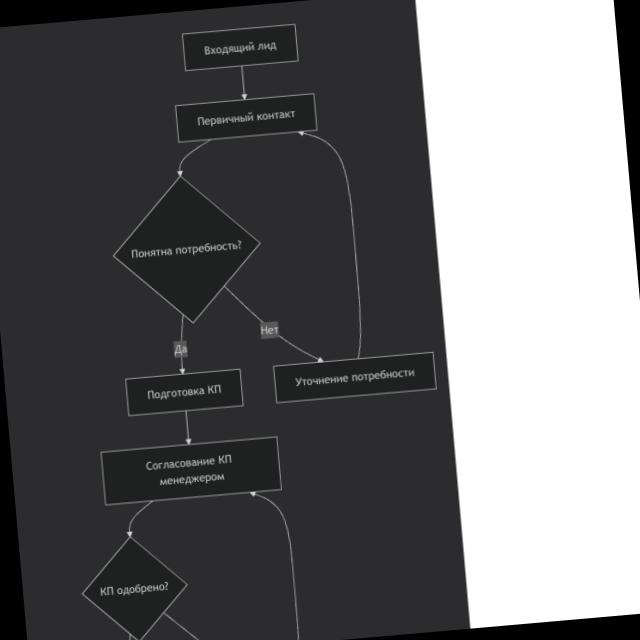arrow: (299, 131, 361, 358), (223, 278, 324, 370), (251, 492, 299, 639), (178, 139, 210, 176), (127, 502, 152, 537), (174, 314, 188, 373), (182, 410, 192, 444), (238, 67, 247, 100)
diamond: (106, 169, 268, 330), (77, 532, 193, 640)
rectangle: (100, 436, 282, 505), (272, 350, 438, 403), (175, 91, 318, 142), (124, 366, 244, 416), (182, 24, 298, 72)
text_region: (260, 322, 279, 338), (172, 340, 187, 358)
